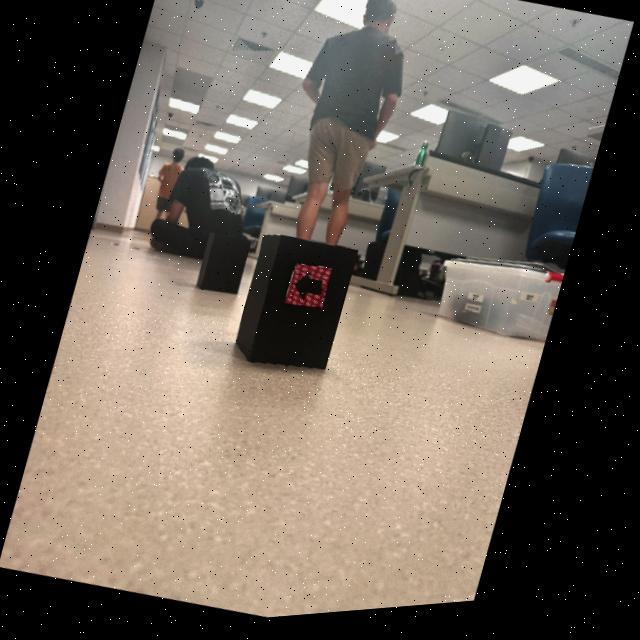LEFT: (295, 276, 324, 306)
